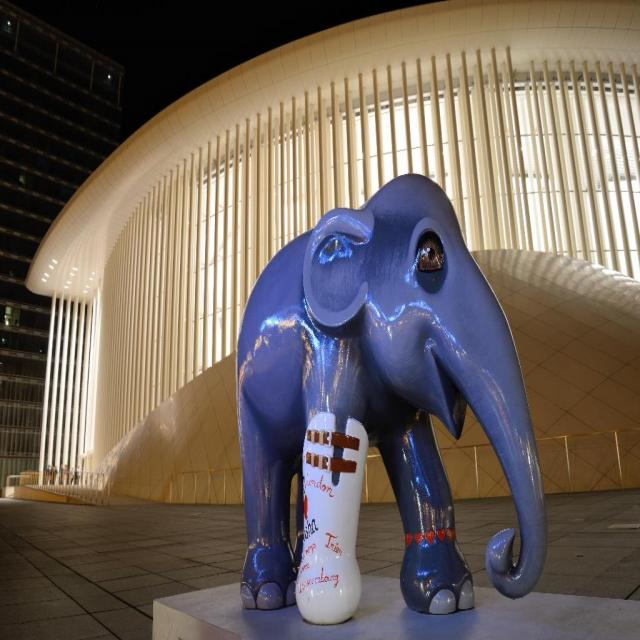elephant: (231, 182, 552, 608)
